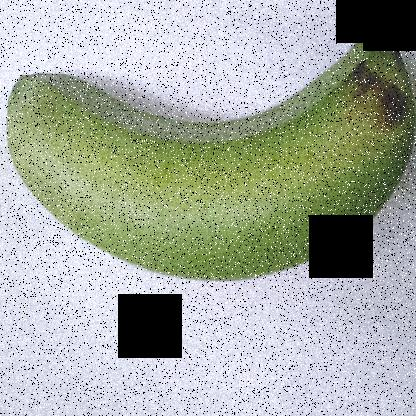freshunripe: (2, 19, 416, 294)
